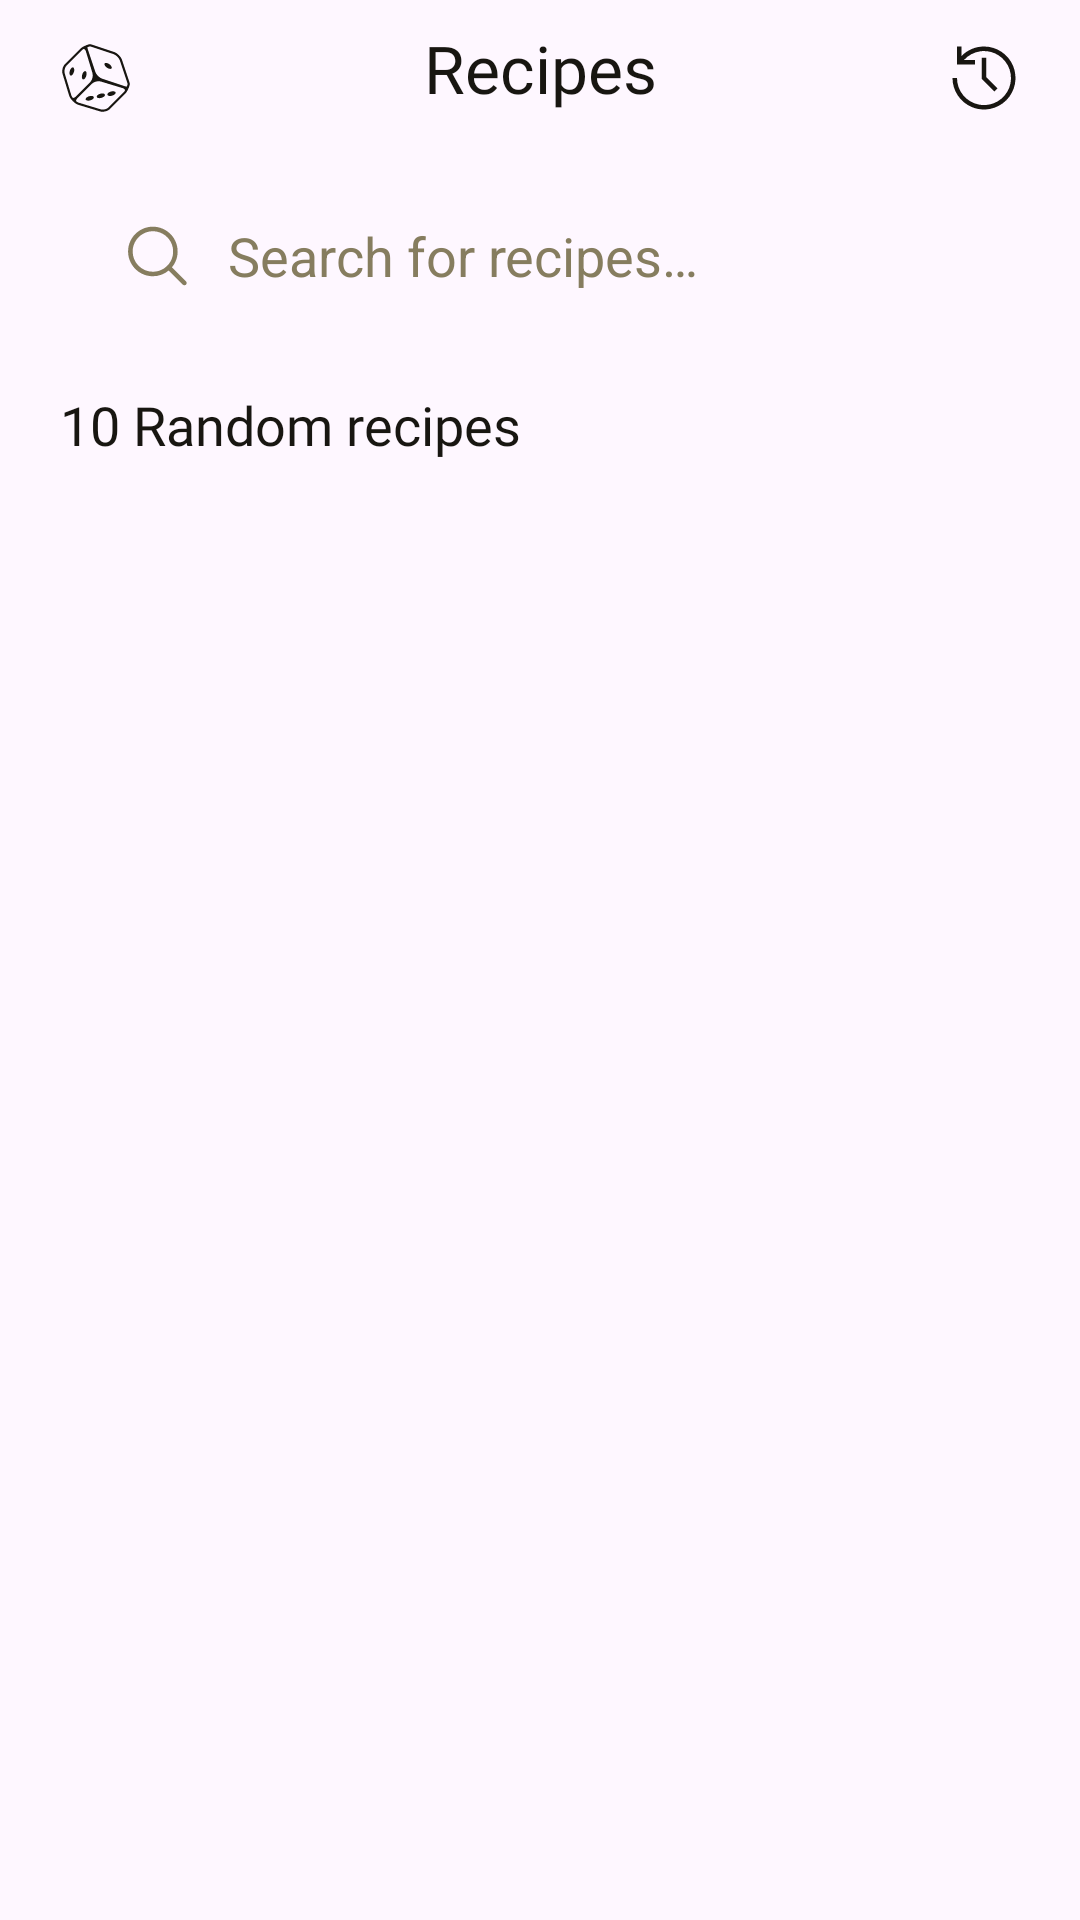

Where to tap for icons on this 1080w x 1920h app screen, as [x,y]:
dado: [96,78]
recientes: [984,78]
